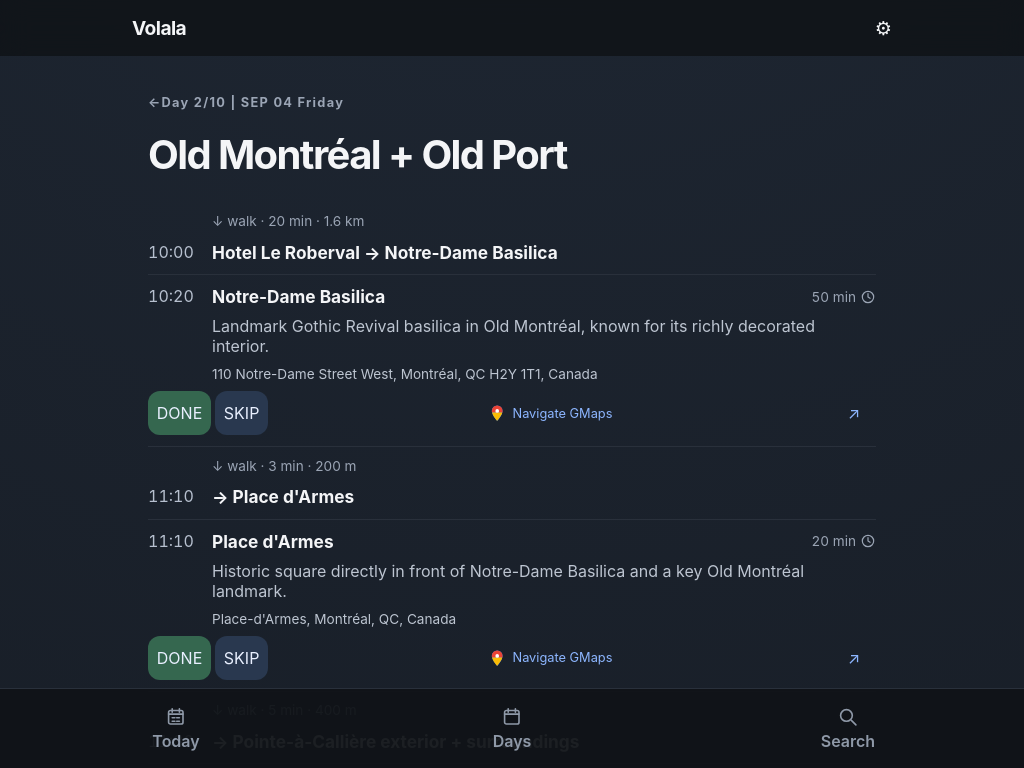
it: day item presentation › renders SKIPPED items compactly with UNDO
This screenshot has width=1024, height=768.
What coordinates should you click on to do the following:
click the button "SKIP" below "10:20"
I would click on:
 (242, 413)
Its box is [215,391,268,435].
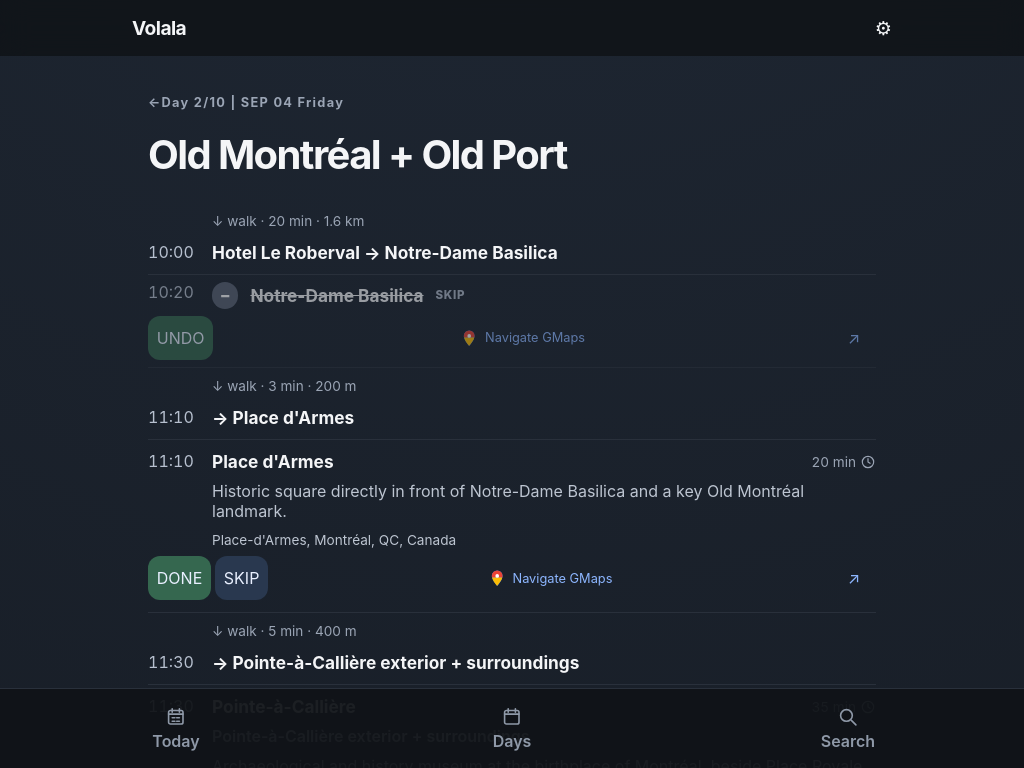
Expected: the text "SKIP" is shown, [436,288,465,302]
Expected: the button "UNDO" is shown, [148,316,213,360]
